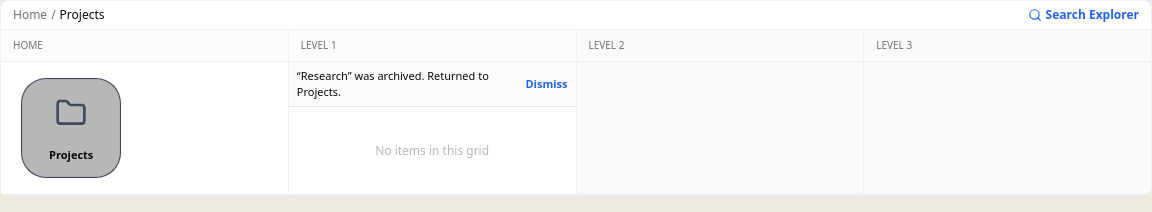
Scenario: HierarchyExplorer Task 150 remote/path statuses › renders one exact destination-column fallback and returns focus on Dismiss
expect the message shows "“Research” was archived. Returned to Projects.": met, box [297,68,489,99]
expect the number of messages is 1: met, box [289,62,576,107]
Step 1. Click the button "Dismiss" → (546, 84), box [525,76,568,92]
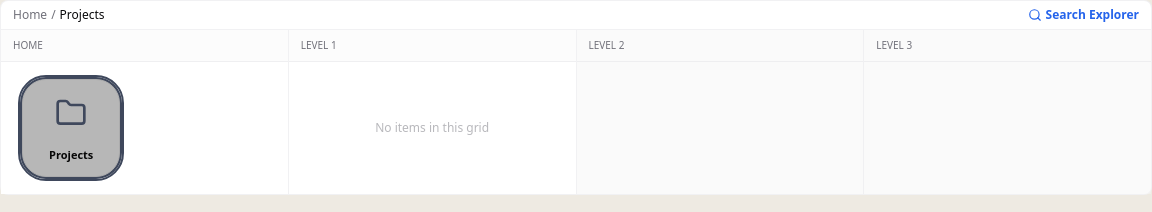
expect the message "“Research” was archived. Returned to Projects. Dismiss" is gone: met
